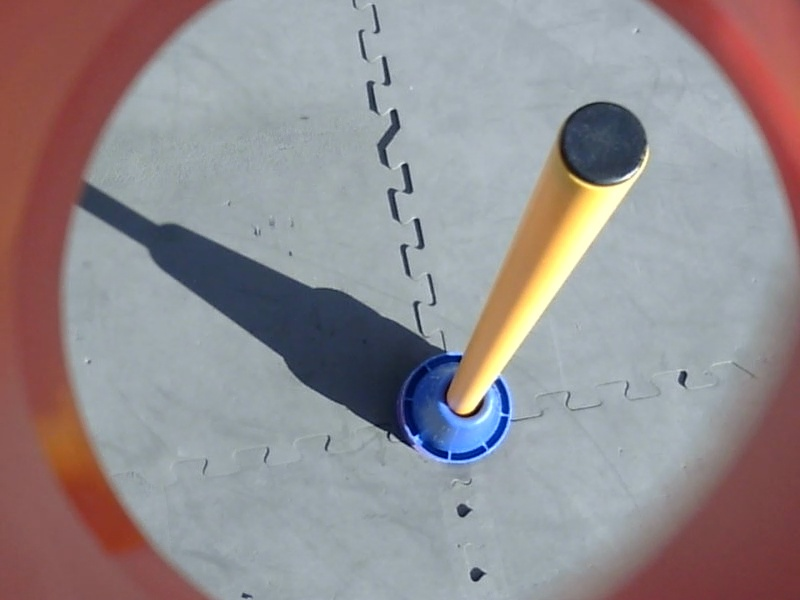tip: (551, 98, 655, 192)
